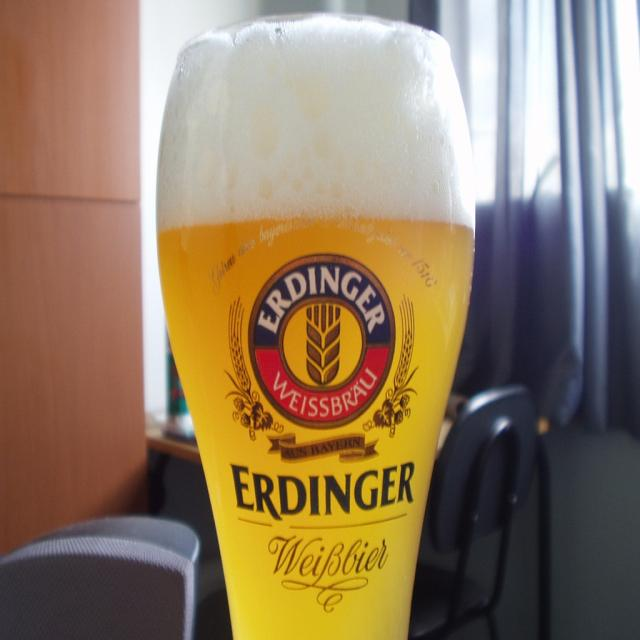erdinger: (205, 218, 446, 534)
